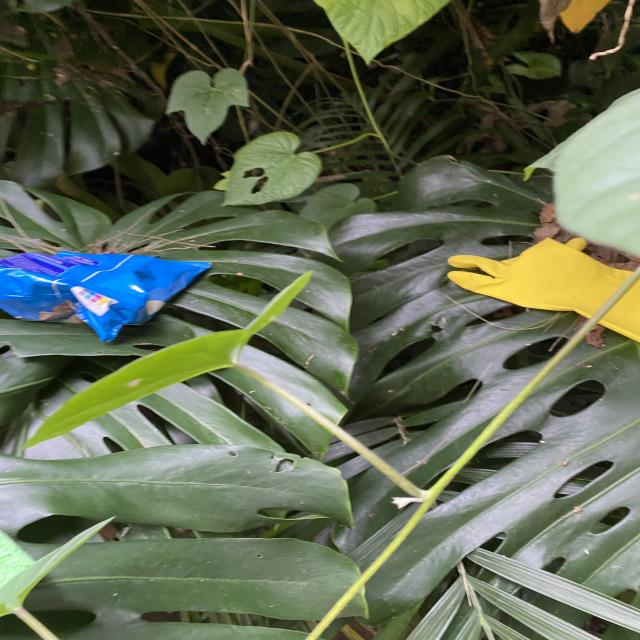bag: (0, 251, 212, 342)
glove: (447, 237, 640, 343)
